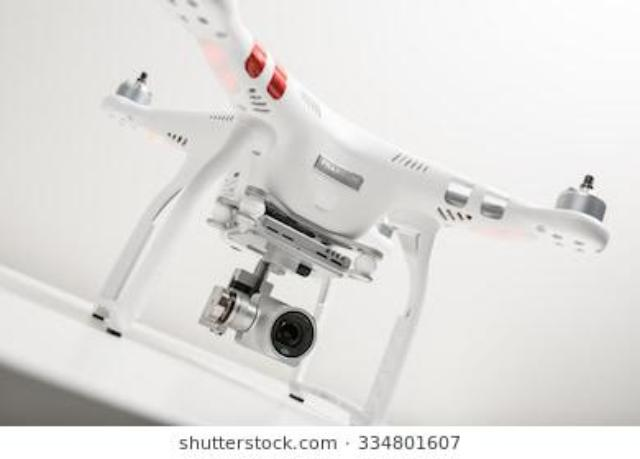drone: (0, 39, 640, 459)
